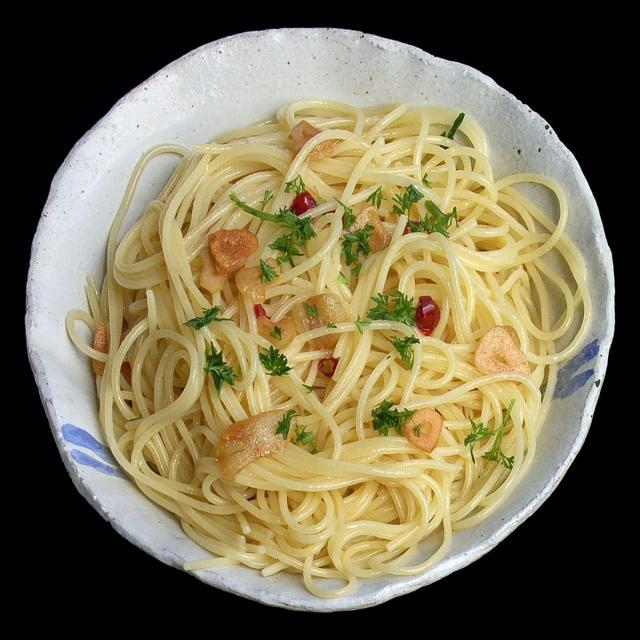Oil pasta: (28, 65, 592, 562)
